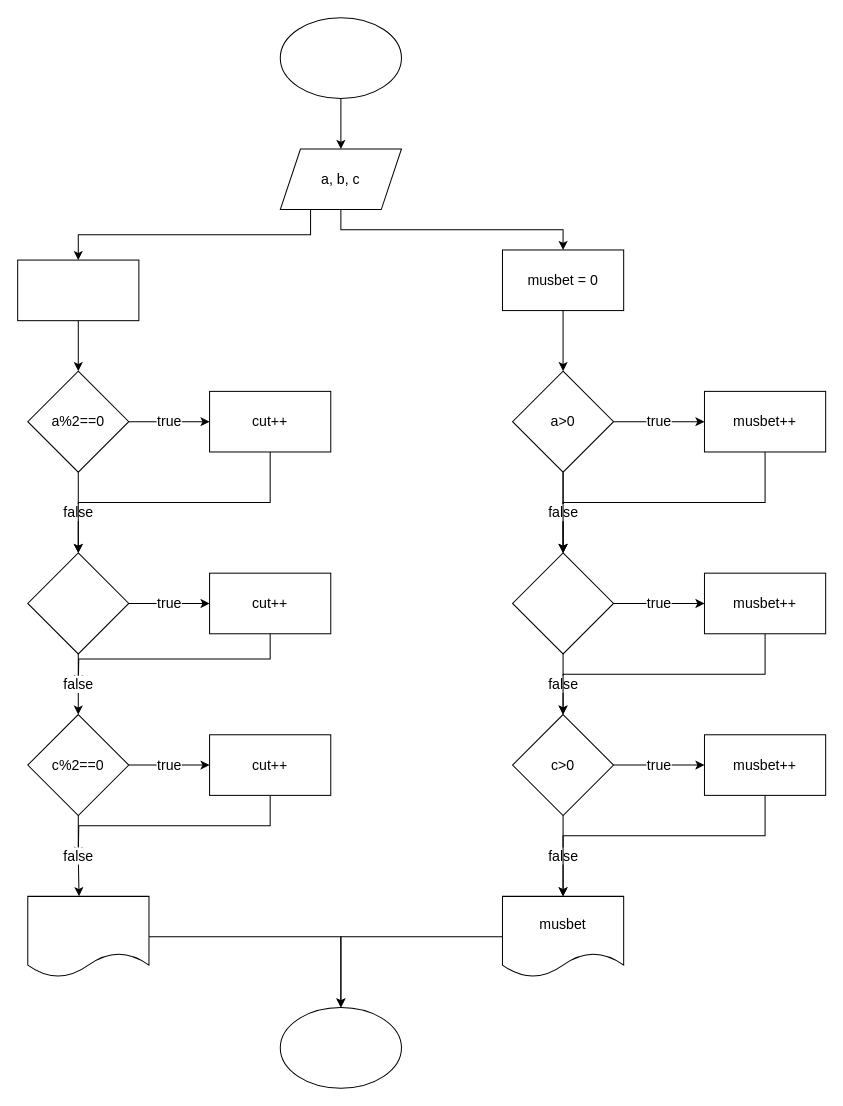
Some shapes in this 843 by 1106 pixel diagram are drawn without their labels. The shapes that lost their labels are listed below. From the top down, each one's centre as x and y in pixels, then its label:
the point at 340,57: Start
the point at 78,290: cut = 0
the point at 78,603: b%2==0
the point at 563,603: b>0
the point at 88,936: cut
the point at 340,1047: End
